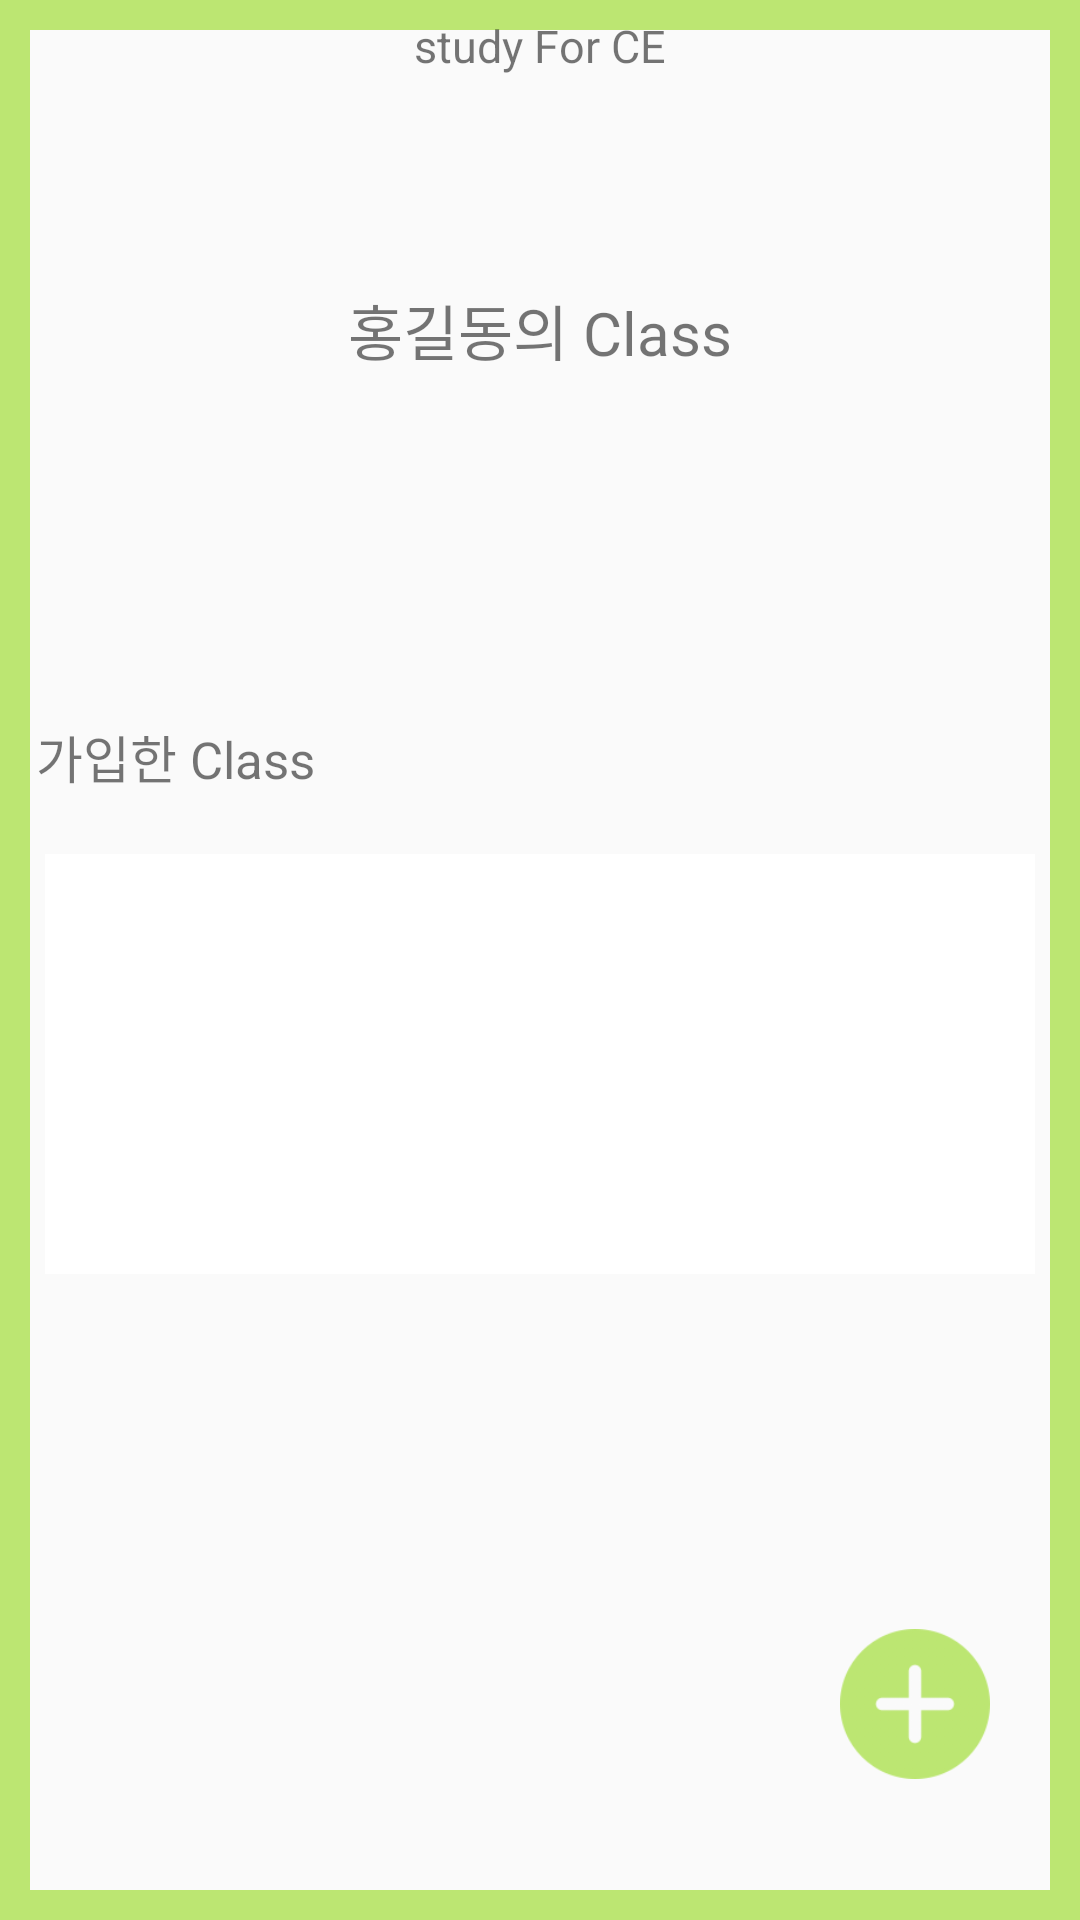

Where to tap for icons on this 1080 x 1920 app screen, as (x,y):
plus: (915,1704)
